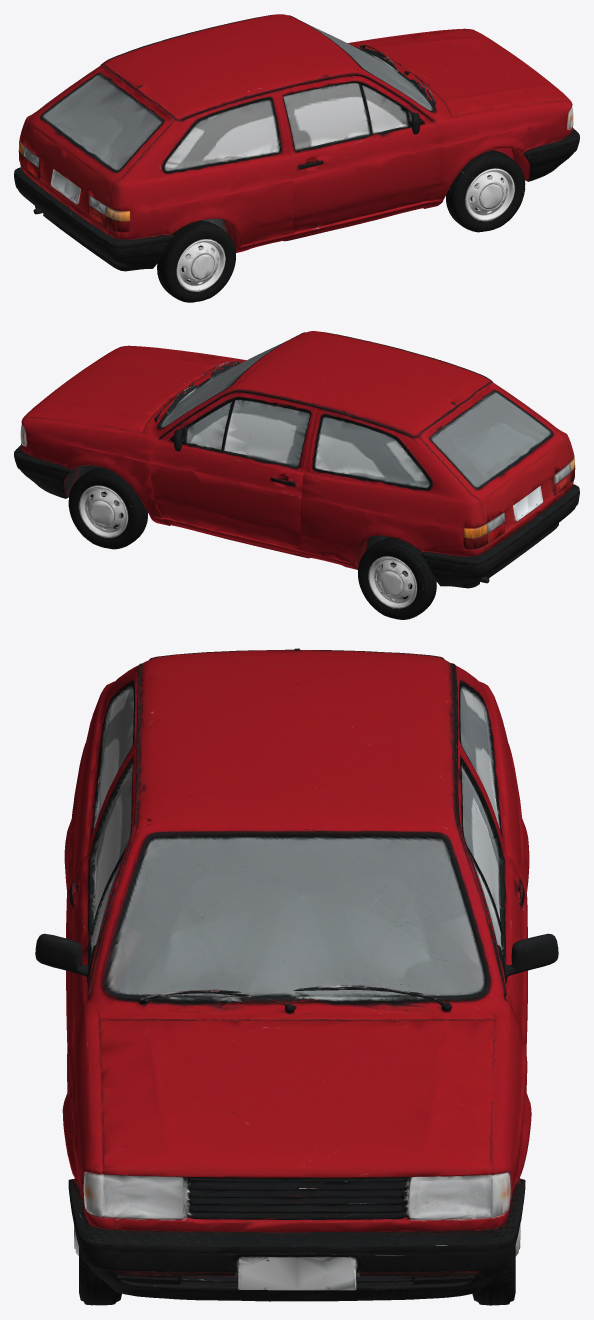
File: hatch-quadrado-v2-120k__01a17dd1.glb
The picture shows the model from 3 angles, top to bottom: view 1: azimuth 30°, elevation 25°; view 2: azimuth 150°, elevation 25°; view 3: azimuth 270°, elevation 25°; orthographic projection. The views are drawn at different scales.
Visible parts, largest first — view 1: hatch-quadrado-v2; view 2: hatch-quadrado-v2; view 3: hatch-quadrado-v2.
Boxes of the visible parts, box(x1,y1,x2,y2) form: hatch-quadrado-v2: box(14, 14, 579, 302); hatch-quadrado-v2: box(14, 331, 579, 619); hatch-quadrado-v2: box(35, 648, 558, 1305).
Bounding box in the file's own units: 3.81 × 1.43 × 1.83.
Materials: 1 (1 with a texture image).
